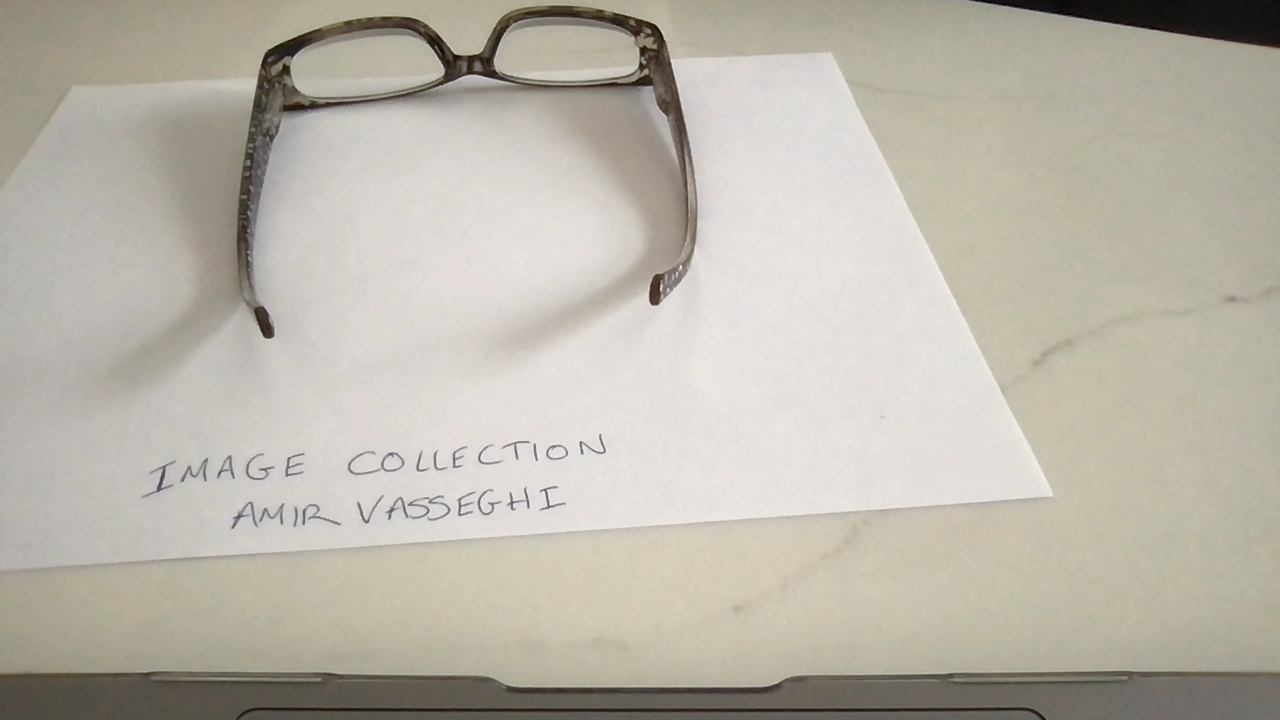glasses: (235, 4, 699, 342)
